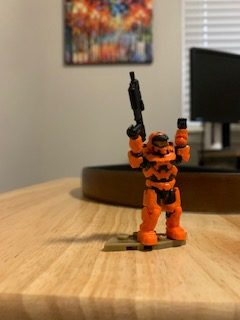rifle: (123, 70, 150, 142)
spartan: (123, 115, 190, 245)
up: (124, 117, 191, 179)
